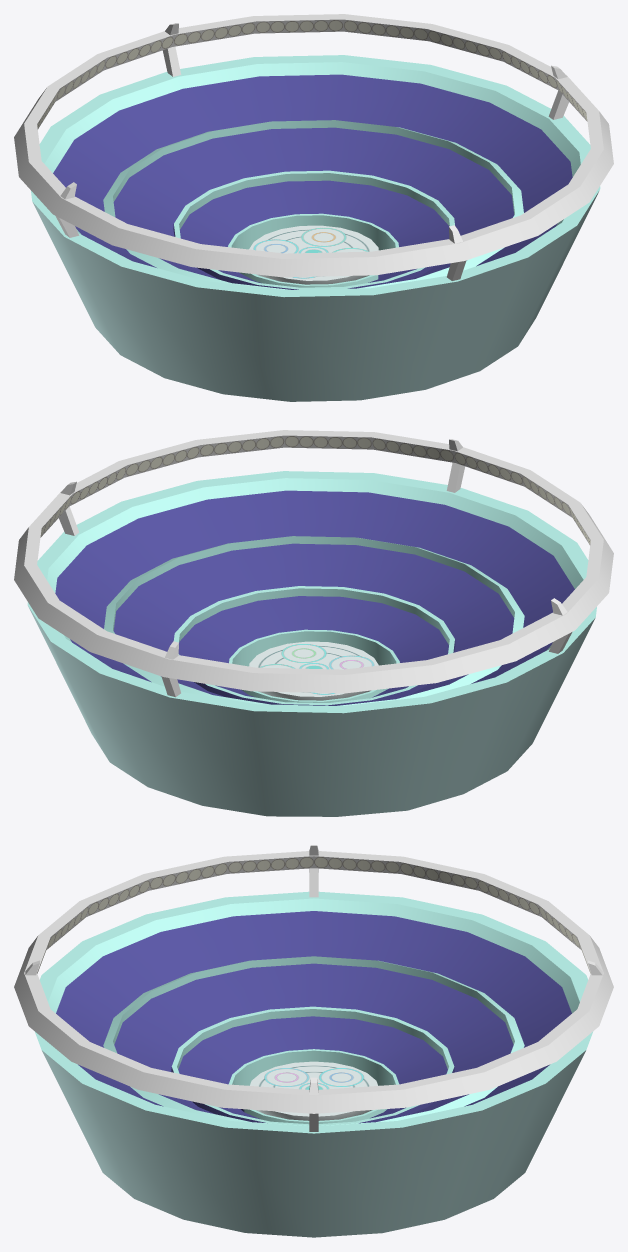
The model's file is stage.fbx.
3 views of the same model, one above another, from view 1: azimuth 30°, elevation 25°; view 2: azimuth 150°, elevation 25°; view 3: azimuth 270°, elevation 25° (orthographic).
Parts seen in each view (by area): view 1: stage; view 2: stage; view 3: stage.
Boxes of the visible parts, <box> form: stage: <box>14,14,613,401</box>; stage: <box>14,430,613,816</box>; stage: <box>14,845,613,1237</box>.
Bounding box in the file's own units: 2754 × 922 × 2754.
2 materials, 2 textured.
